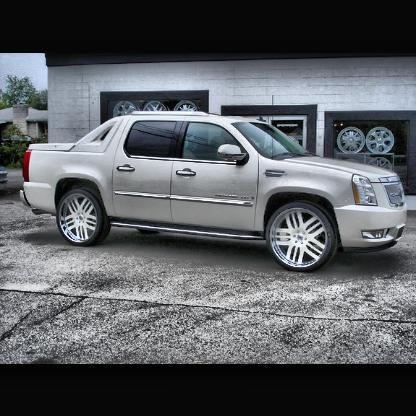Cadillac Escalade EXT Crew Cab 2007: (19, 108, 408, 278)
